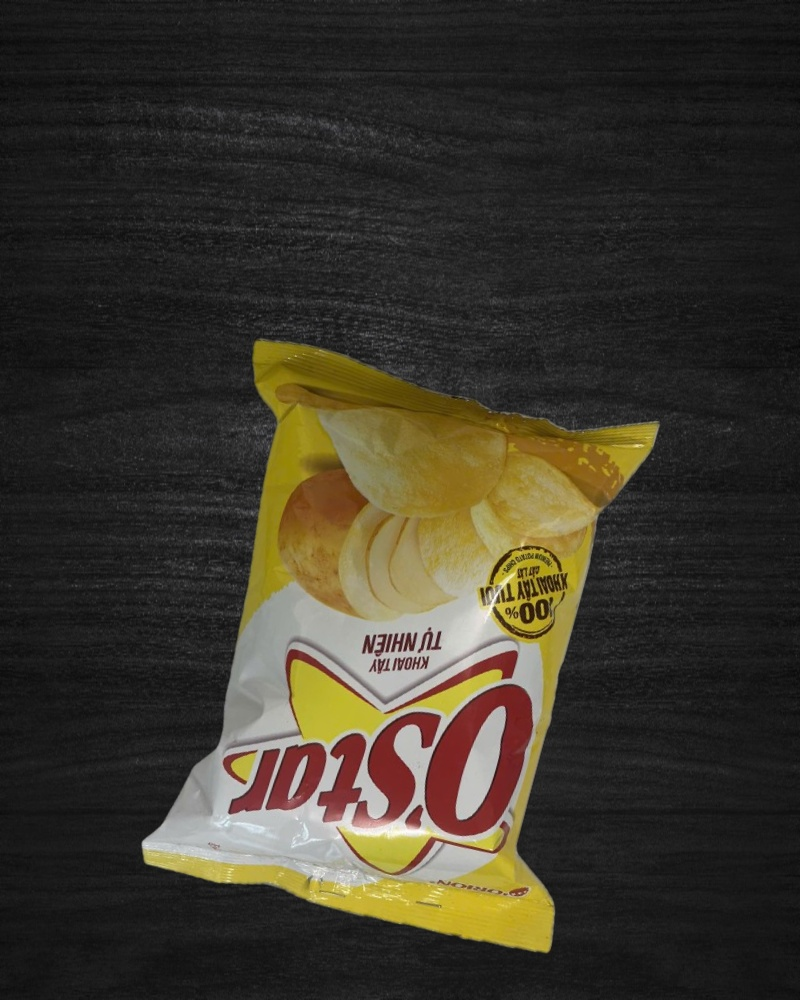Snack cua: (123, 323, 686, 965)
